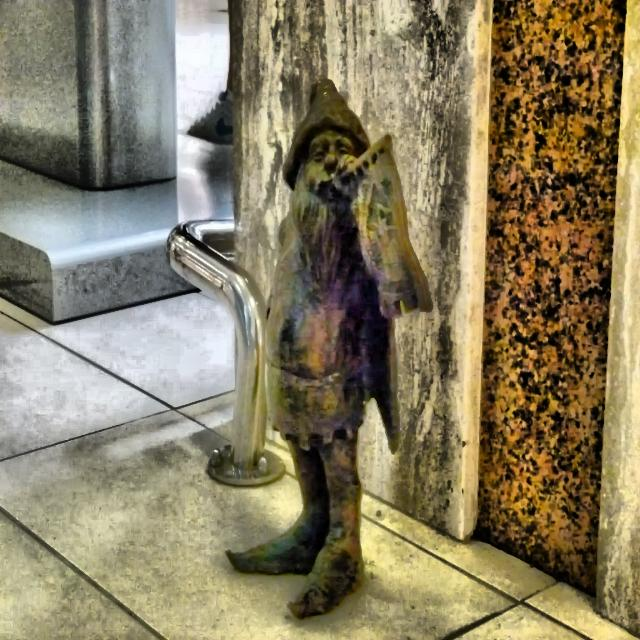Trabibrzuch: (228, 80, 431, 620)
